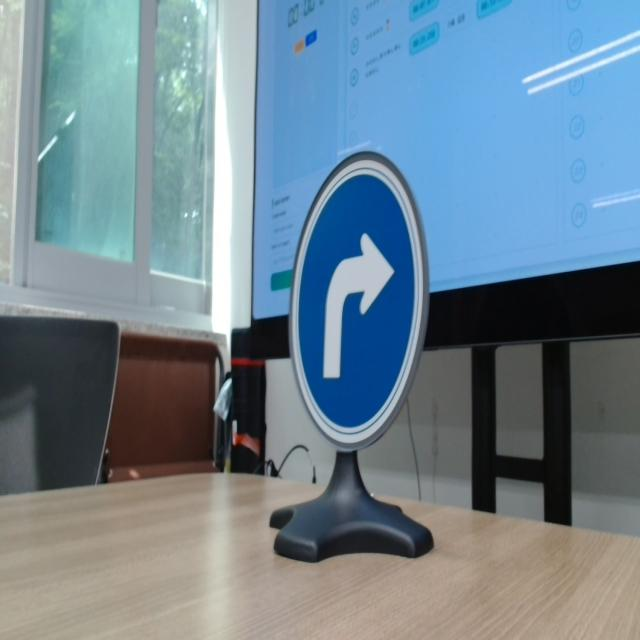right_dierection: (274, 127, 446, 467)
